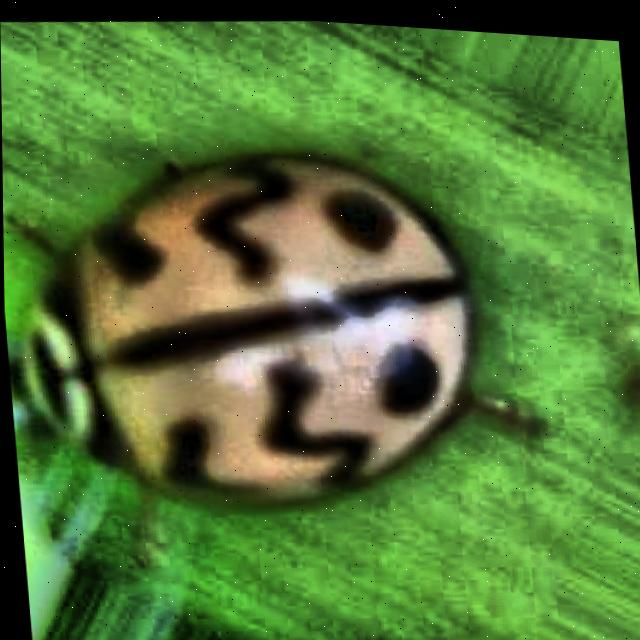Asian-Lady-beetle: (1, 57, 558, 640)
